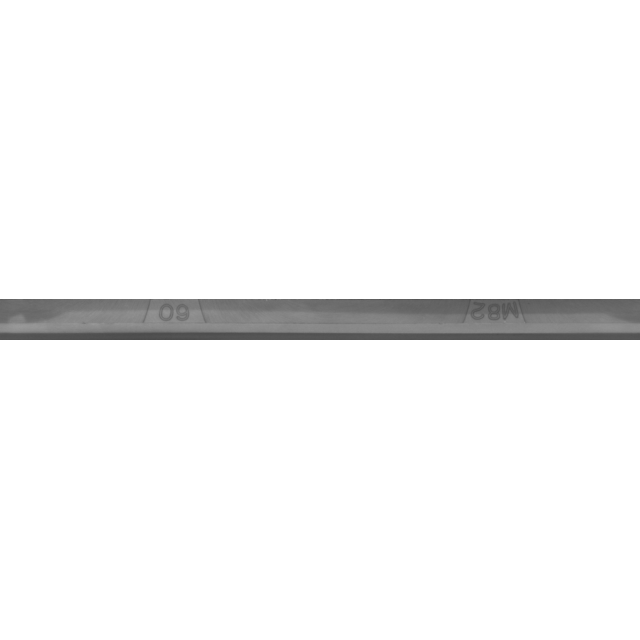mohao: (405, 270, 605, 370)
xuehao: (76, 270, 276, 370)
